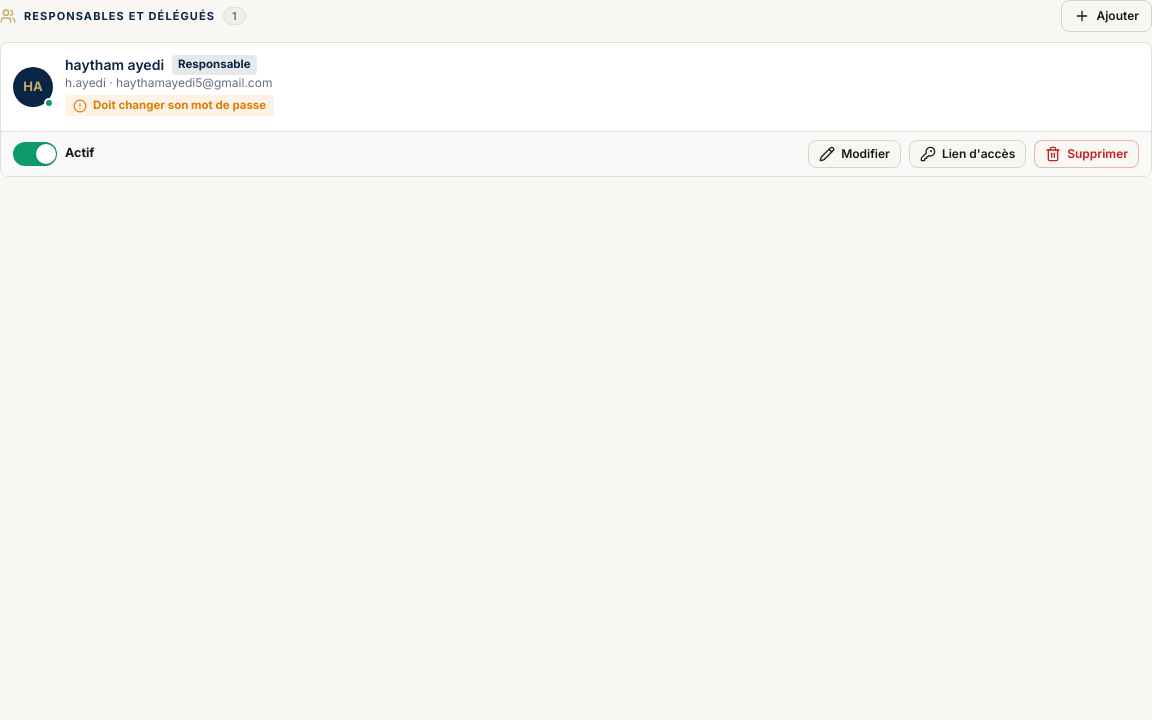
Test: compte de société en carte › à l'ajout, ne demande aucun mot de passe (lien d'activation) et dit ce qui manque
Click the button "Ajouter". click: (1107, 16)
box: [1062,0,1151,32]
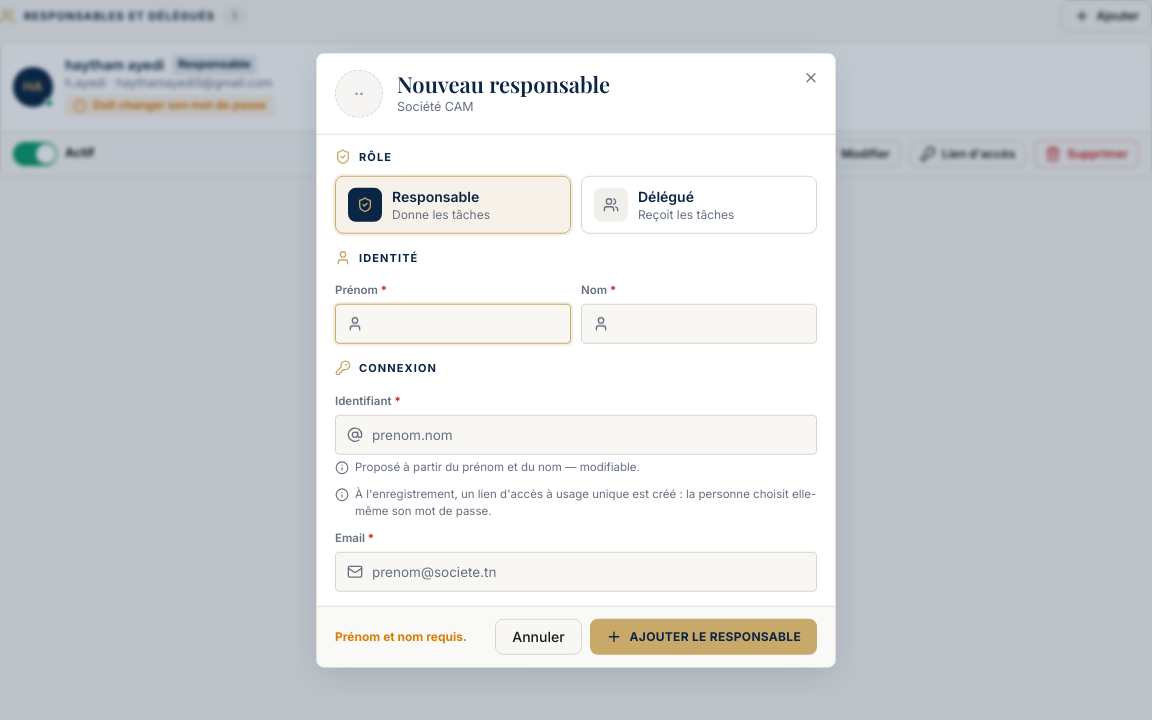
expect the heading "Nouveau responsable" is shown: met, box [397,69,610,99]
expect the text "lien d.accès à usage unique" is shown: met, box [355,486,686,500]
expect the text "Prénom et nom requis." is shown: met, box [335,628,467,644]
Click the radio button labelled "Délégué Reçoit les tâches". click: (699, 204)
box: [581,175,817,233]
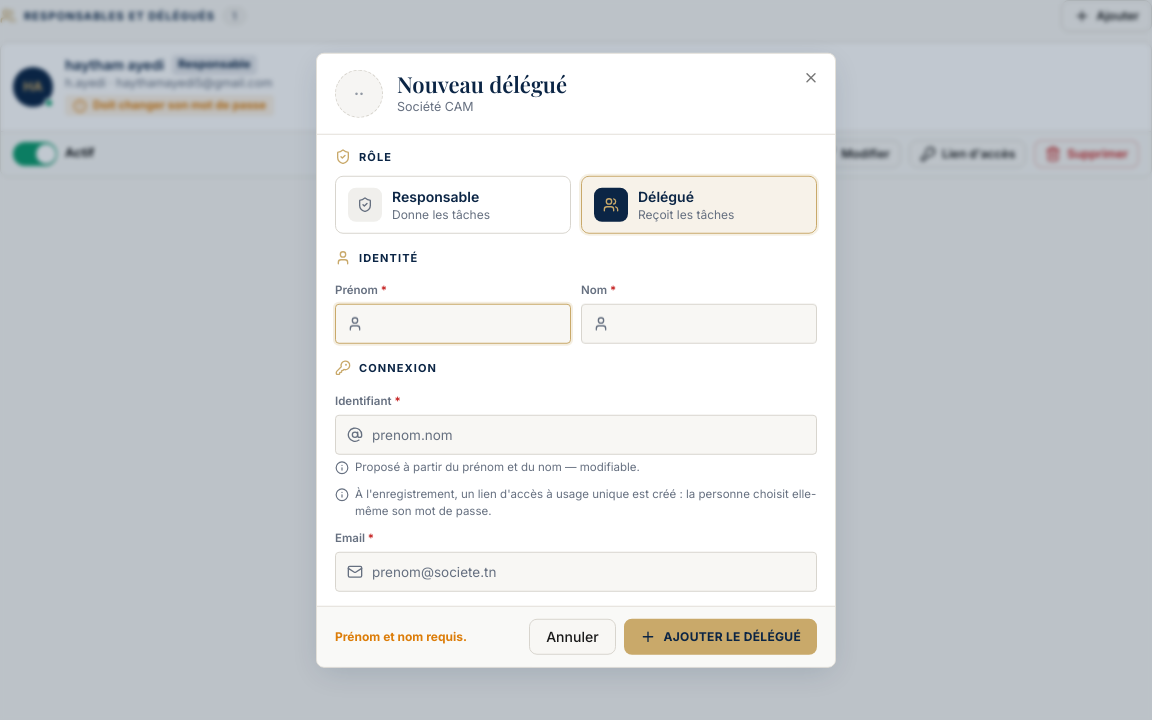
expect the heading "Nouveau délégué" is shown: met, box [397,69,567,99]
